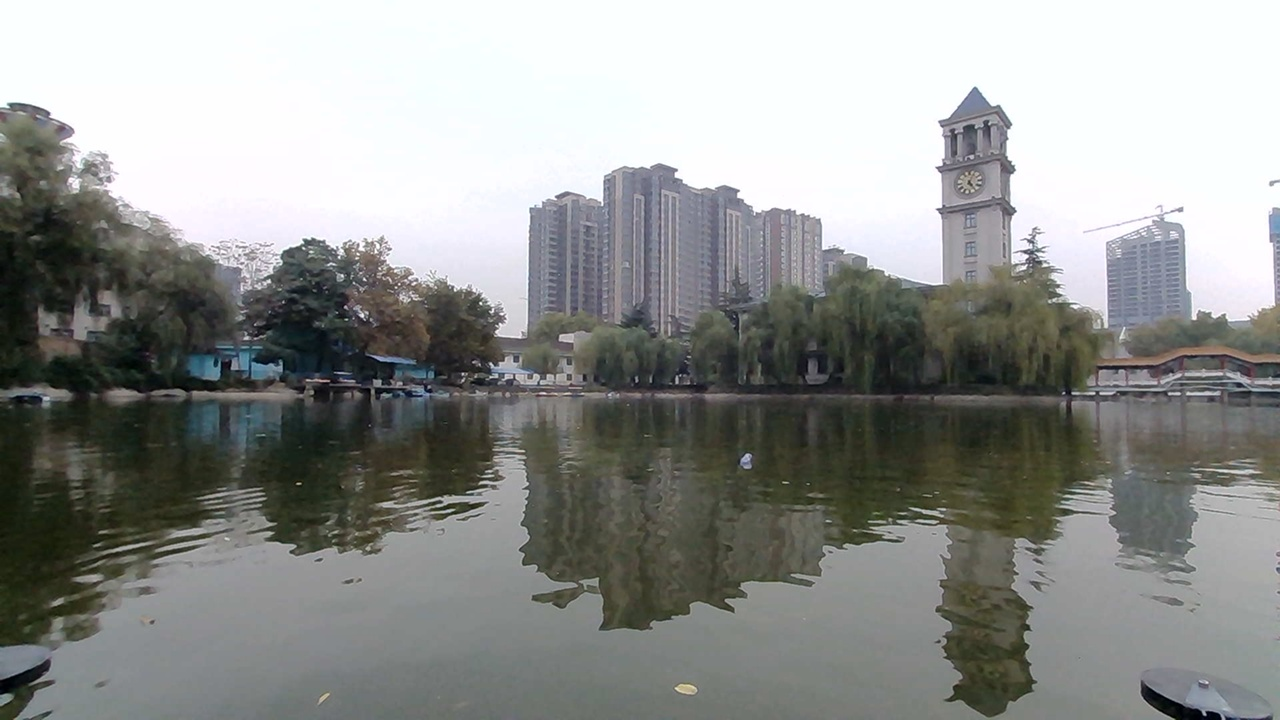bottle: (724, 442, 773, 474)
